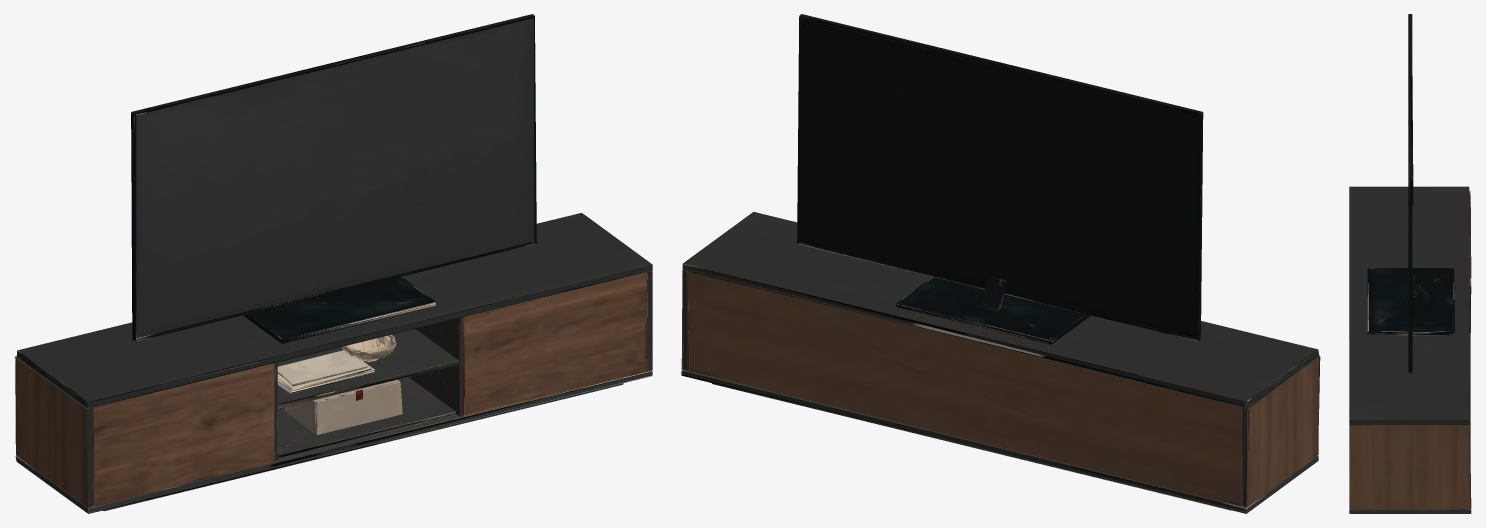
Rendered from desktop.glb.
3 views of the same model, side by side, from view 1: azimuth 30°, elevation 25°; view 2: azimuth 150°, elevation 25°; view 3: azimuth 270°, elevation 25° (orthographic). The views are drawn at different scales.
Parts seen in each view (by area): view 1: tv; view 2: tv; view 3: tv.
Boxes of the visible parts, <box> form: tv: <box>14,14,652,513</box>; tv: <box>681,14,1320,513</box>; tv: <box>1349,14,1471,513</box>.
Bounding box in the file's own units: 1.24 × 0.7585 × 0.2736.
Materials: 1 (1 with a texture image).
